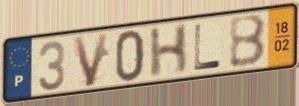0: (113, 28, 146, 84)
3: (37, 39, 67, 92)
B: (227, 12, 268, 70)
H: (148, 21, 191, 80)
L: (193, 22, 223, 73)
V: (70, 30, 111, 89)
